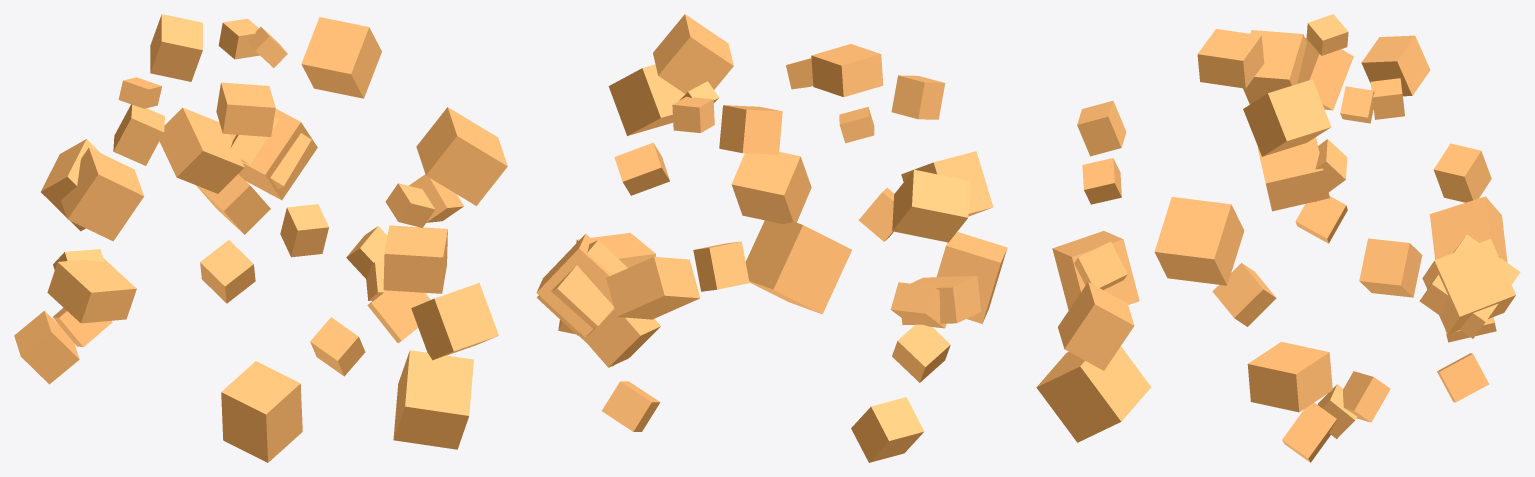
File: ferrite-ore.glb
3 renders of one model, left to right at view 1: azimuth 30°, elevation 25°; view 2: azimuth 150°, elevation 25°; view 3: azimuth 270°, elevation 25°, orthographic.
Visible parts, largest first — view 1: ore; view 2: ore; view 3: ore.
Boxes of the visible parts, x1,y1,x2,y2 form: ore: (14, 14, 507, 462); ore: (536, 14, 1007, 462); ore: (1036, 14, 1520, 462).
Size of the model in its own units: 2.69 by 2.23 by 2.76.
